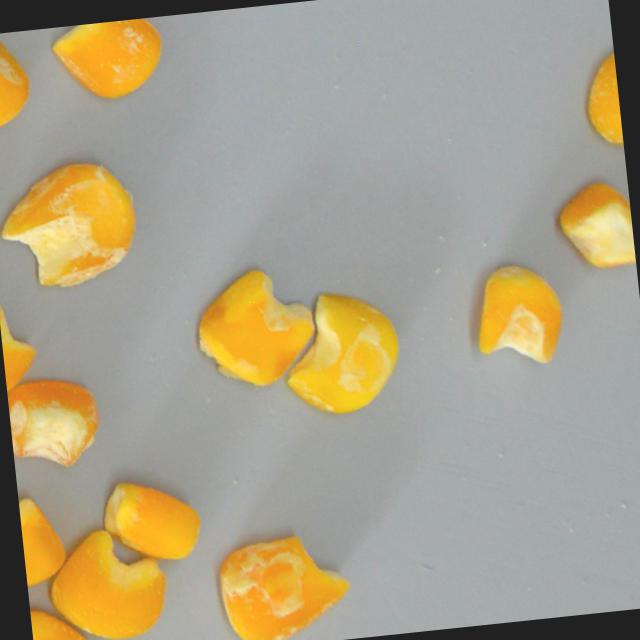no_canjicado: (39, 522, 175, 640), (16, 489, 70, 588), (0, 293, 43, 401), (28, 598, 97, 640)
no_desgerminado: (552, 175, 636, 275)
pelicula: (0, 152, 147, 296), (276, 281, 407, 421), (188, 261, 323, 395), (208, 525, 359, 640), (467, 257, 569, 371), (48, 15, 168, 105), (96, 472, 206, 569), (5, 371, 107, 474), (577, 46, 624, 153), (0, 29, 35, 130)
